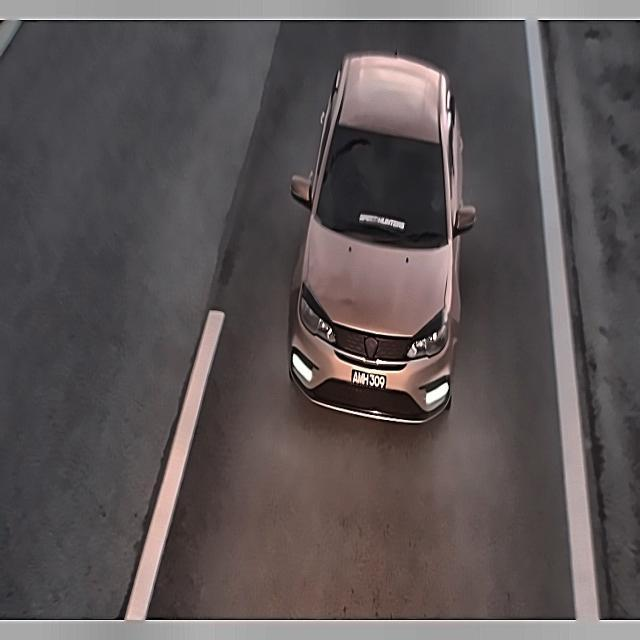car: (345, 362, 394, 396)
